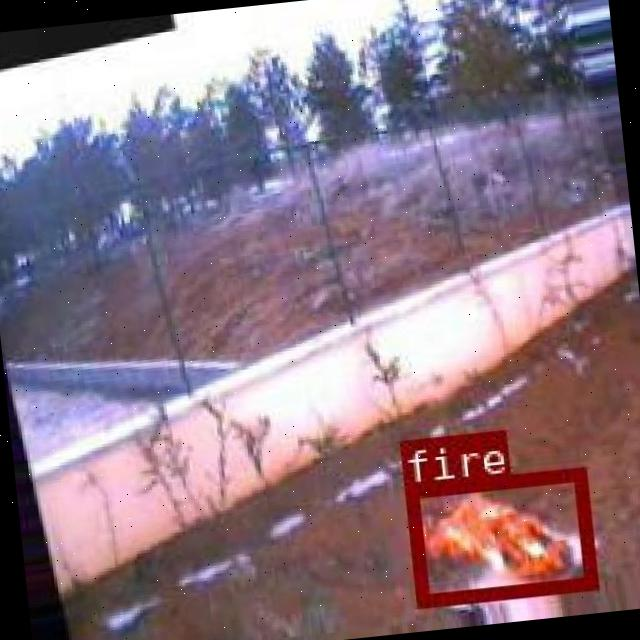fire: (404, 464, 596, 604)
